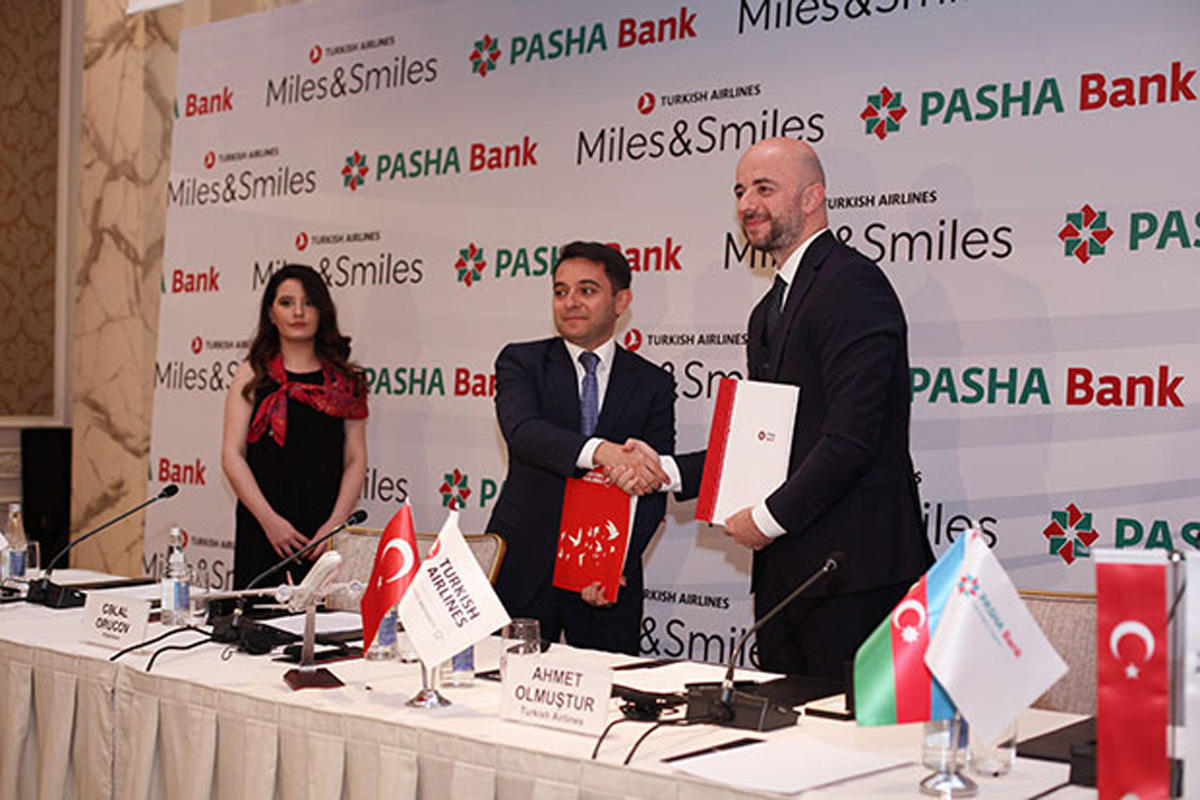Pasha Bank: (1037, 496, 1099, 568), (1055, 200, 1115, 266), (858, 84, 913, 145), (450, 240, 489, 290), (468, 33, 502, 78), (338, 150, 370, 194)
